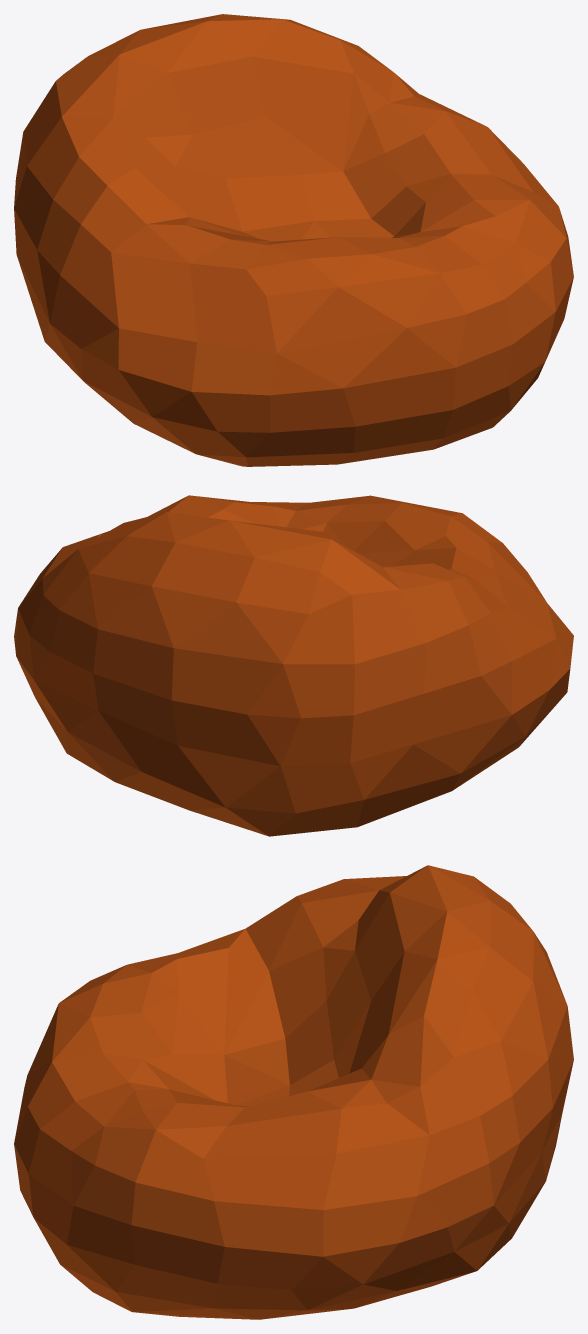
The picture shows the model from 3 angles, top to bottom: view 1: azimuth 30°, elevation 25°; view 2: azimuth 150°, elevation 25°; view 3: azimuth 270°, elevation 25°; orthographic projection. The views are drawn at different scales.
Parts seen in each view (by area): view 1: Cube_Cube007; view 2: Cube_Cube007; view 3: Cube_Cube007.
Part boxes in pixels (<box>): Cube_Cube007: <box>14,14,573,466</box>; Cube_Cube007: <box>14,495,573,836</box>; Cube_Cube007: <box>14,865,573,1319</box>.
Size of the model in its own units: 1.1 by 0.7107 by 1.03.
